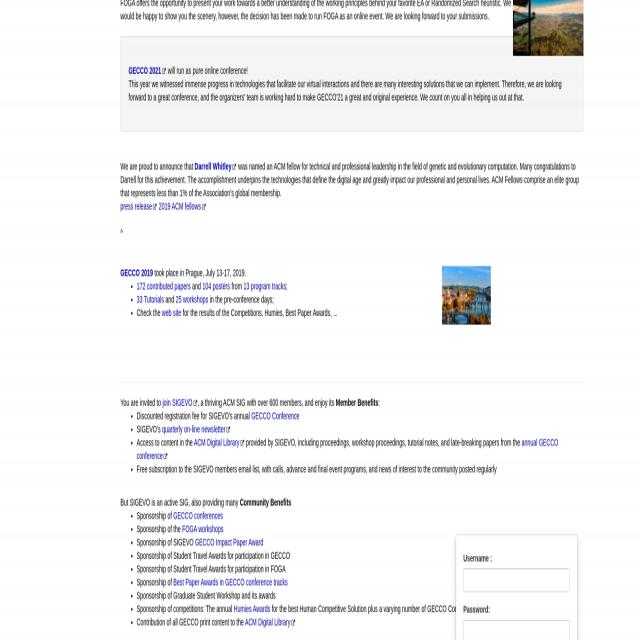button: (513, 0, 583, 56), (442, 266, 491, 327)
field: (463, 568, 570, 592), (464, 619, 569, 640)
